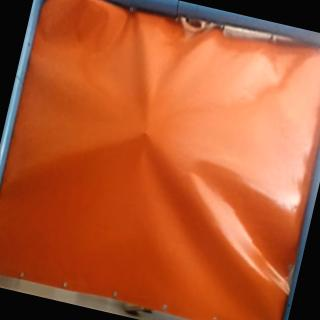Hit-hRxx: (137, 127, 155, 144)
